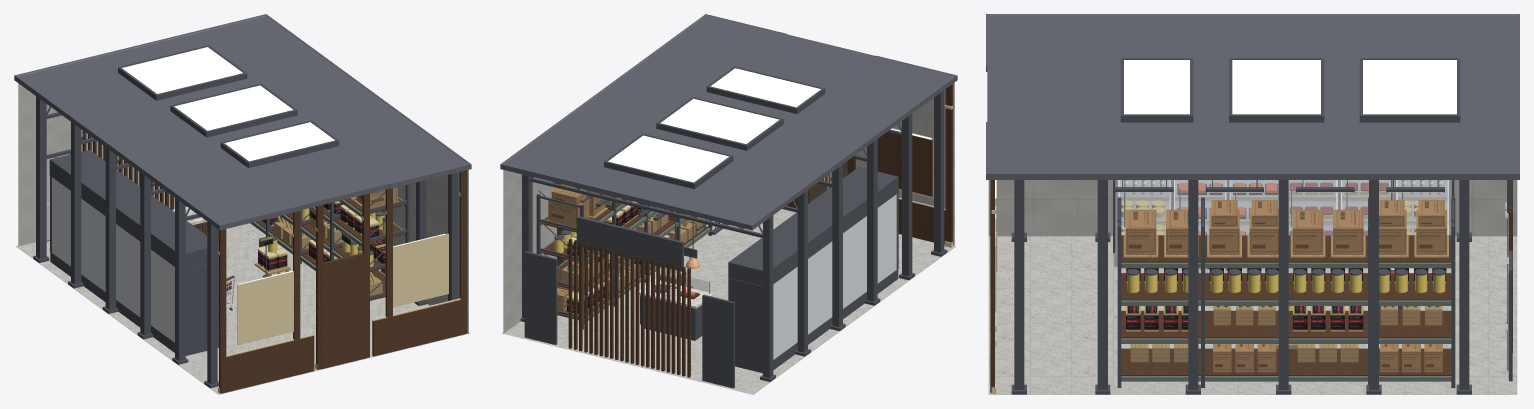
The model's file is warehouse_club.glb.
3 views of the same model, side by side, from view 1: azimuth 30°, elevation 25°; view 2: azimuth 150°, elevation 25°; view 3: azimuth 270°, elevation 25° (orthographic). The views are drawn at different scales.
Parts seen in each view (by area): view 1: RoofDeckDark, DarkTrussSteel, FrontWalnutMillwork, SkylightSky, ConcreteWalls, TerrazzoFloor, FrontBrassTrim, FreezerInterior, DarkWalnutMillwork, PetTreatTubs, WoodenPallets, ClubRackOrange (+2 smaller); view 2: RoofDeckDark, DarkTrussSteel, DarkWalnutMillwork, TerrazzoFloor, SkylightSky, FreezerInterior, ConcreteWalls, FrontWalnutMillwork, KraftCartons, WoodenPallets, ClubRackOrange, PetTreatTubs (+2 smaller); view 3: RoofDeckDark, TerrazzoFloor, DarkTrussSteel, DarkWalnutMillwork, KraftCartons, SkylightSky, ConcreteWalls, ClubRackOrange, FreezerGlass, WoodenPallets, BrushedStainless, PetTreatTubs (+8 smaller).
Boxes of the visible parts, box(x1,y1,x2,y2) form: RoofDeckDark: box(14, 14, 471, 230); DarkTrussSteel: box(33, 45, 458, 388); FrontWalnutMillwork: box(219, 170, 466, 393); SkylightSky: box(122, 47, 334, 161); ConcreteWalls: box(18, 15, 468, 333); TerrazzoFloor: box(16, 208, 469, 394); FrontBrassTrim: box(218, 192, 460, 393); FreezerInterior: box(52, 177, 174, 342); DarkWalnutMillwork: box(82, 130, 405, 300); PetTreatTubs: box(258, 202, 385, 271); WoodenPallets: box(254, 197, 398, 295); ClubRackOrange: box(250, 197, 405, 275); RoofDeckDark: box(500, 14, 957, 230); DarkTrussSteel: box(520, 66, 947, 388); DarkWalnutMillwork: box(540, 199, 708, 377); TerrazzoFloor: box(502, 209, 955, 394); SkylightSky: box(608, 68, 820, 182); FreezerInterior: box(773, 194, 896, 359); ConcreteWalls: box(503, 14, 954, 333); FrontWalnutMillwork: box(787, 84, 952, 244); KraftCartons: box(548, 184, 618, 311); WoodenPallets: box(547, 198, 703, 291); ClubRackOrange: box(540, 200, 710, 323); PetTreatTubs: box(567, 202, 686, 315); RoofDeckDark: box(986, 14, 1519, 179); TerrazzoFloor: box(988, 236, 1517, 394); DarkTrussSteel: box(1011, 58, 1512, 394); DarkWalnutMillwork: box(1121, 180, 1512, 375); KraftCartons: box(1125, 200, 1446, 372); SkylightSky: box(1124, 60, 1456, 114); ConcreteWalls: box(988, 14, 1517, 236); ClubRackOrange: box(1121, 235, 1451, 381); FreezerGlass: box(1119, 180, 1448, 234); WoodenPallets: box(1123, 235, 1448, 362); BrushedStainless: box(1114, 180, 1508, 378); PetTreatTubs: box(1126, 268, 1446, 331).
Size of the model in its own units: 27.2 by 18.28 by 38.4.
Materials: 34 (15 with a texture image).
